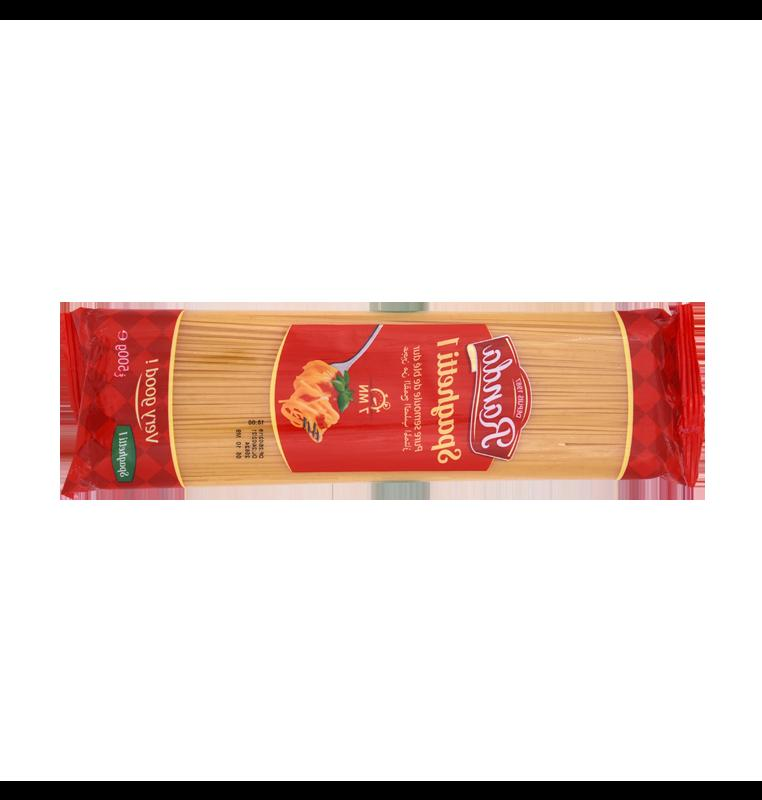Spaghetti: (55, 299, 709, 501)
